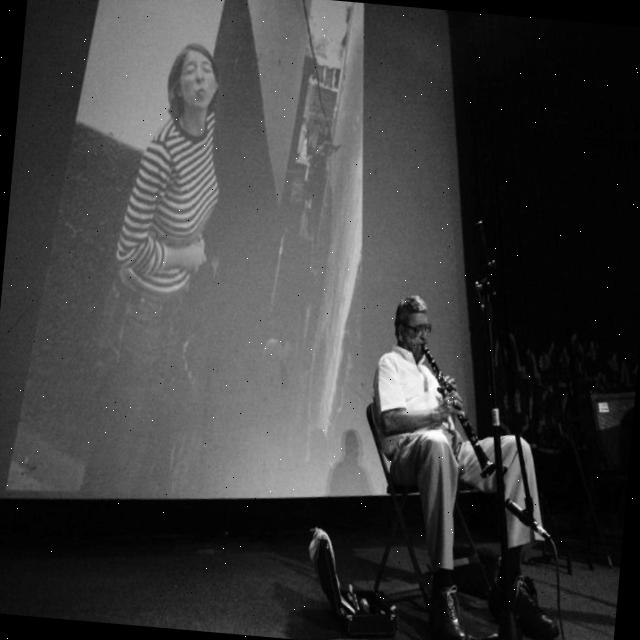clarinet: (409, 344, 506, 482)
